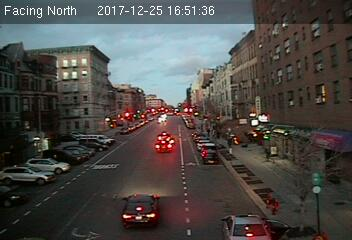car: (121, 192, 161, 226), (201, 149, 217, 164), (155, 140, 173, 152)
